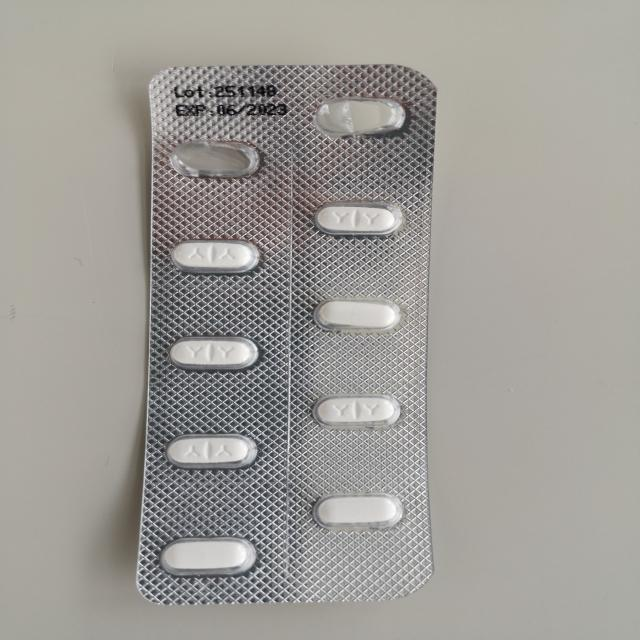Empty: (309, 94, 414, 140), (163, 136, 267, 182)
Pill: (152, 535, 261, 578), (306, 489, 412, 533), (160, 431, 269, 472), (163, 236, 267, 278), (163, 333, 267, 375), (306, 292, 405, 334), (306, 390, 404, 431), (309, 200, 405, 239)
